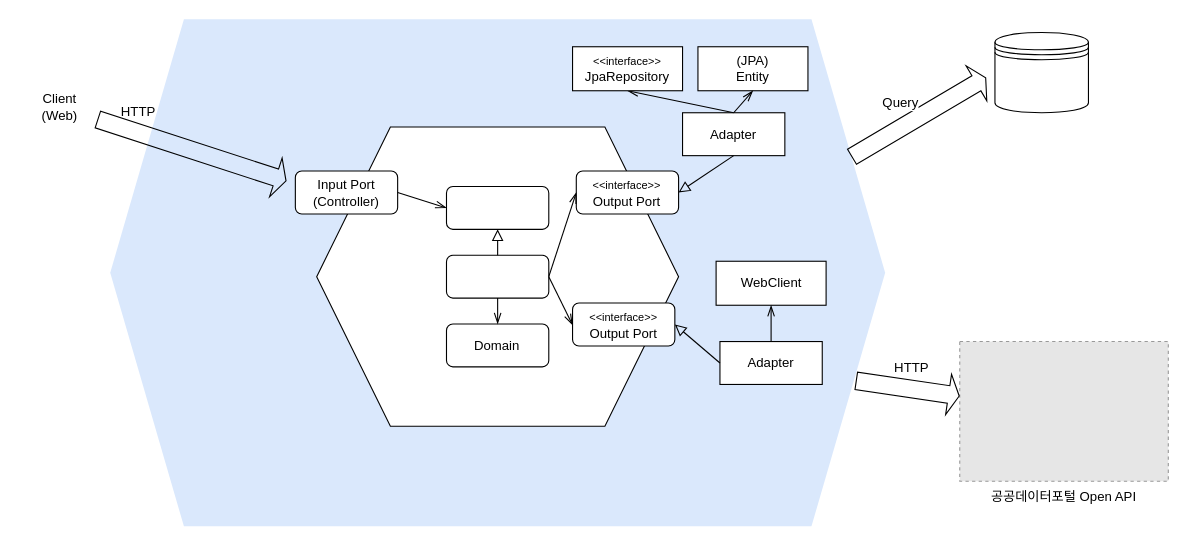
The diagram is 1188 pixels wide and 545 high, and some of its shapes have lost their labels. Grey dashed boxes stand in for pictures. The shapes that lost their labels are listed below. From the top down, each one's box as (x1, y1, x2, y2) in pixels, then its label:
(994, 31, 1088, 113): MySQL
(445, 185, 549, 229): <<interface>> Usecase
(445, 254, 549, 298): Service
